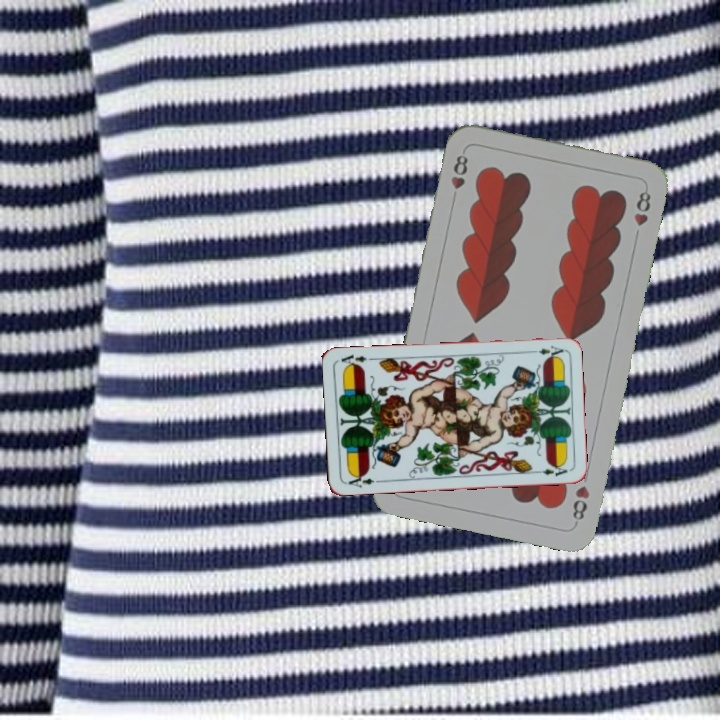EA: (525, 341, 566, 360), (343, 470, 377, 490)
H8: (447, 150, 471, 205), (568, 481, 592, 527)
